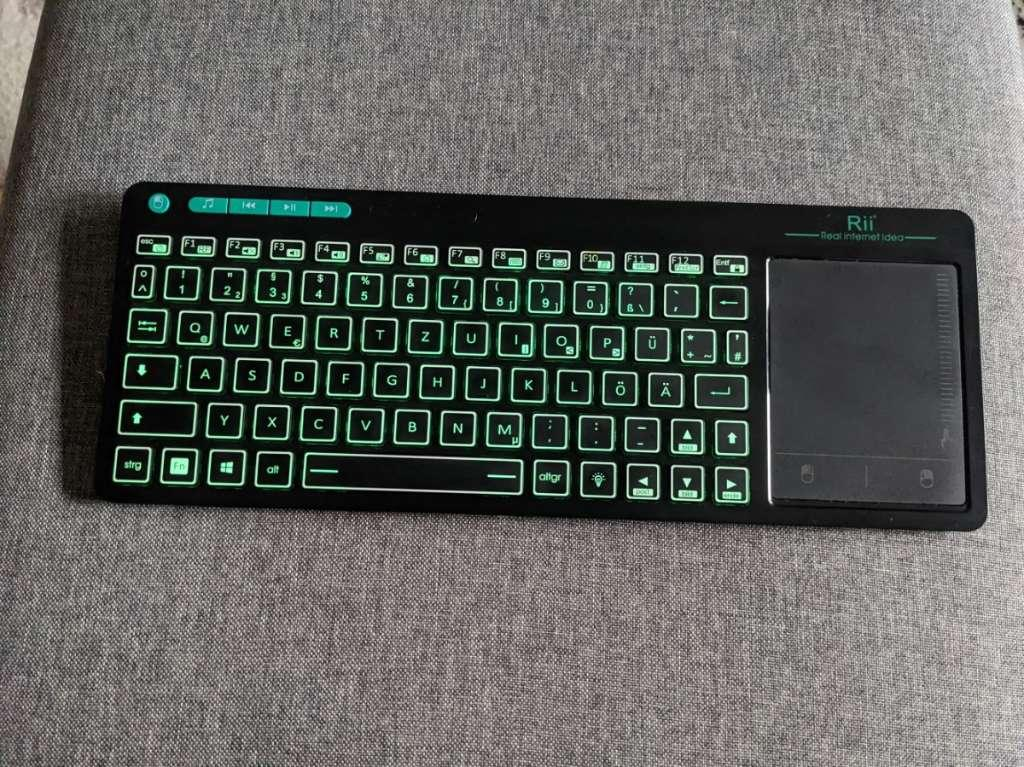0: (570, 278, 607, 314)
1: (162, 263, 199, 298)
2: (207, 264, 245, 300)
3: (252, 266, 290, 302)
4: (299, 267, 336, 302)
5: (345, 270, 382, 305)
6: (390, 272, 428, 307)
7: (435, 274, 472, 309)
8: (480, 275, 516, 311)
9: (524, 277, 562, 312)
a: (185, 352, 222, 389)
accent: (660, 280, 696, 314)
ae: (645, 369, 682, 404)
alt-left: (251, 448, 291, 486)
altgr-right: (529, 456, 570, 496)
b: (391, 406, 429, 442)
c: (297, 403, 336, 439)
caret: (130, 262, 154, 297)
comma: (529, 410, 565, 445)
d: (278, 356, 316, 392)
del: (706, 282, 746, 317)
e: (266, 311, 304, 347)
enter: (691, 370, 747, 406)
f: (325, 358, 362, 393)
g: (371, 359, 408, 395)
h: (417, 361, 453, 397)
hash: (723, 326, 749, 363)
i: (496, 319, 532, 354)
j: (463, 363, 499, 398)
k: (508, 364, 545, 400)
keyboard: (80, 176, 1001, 543)
l: (554, 366, 589, 401)
m: (482, 409, 521, 446)
minus: (622, 413, 659, 449)
n: (437, 407, 475, 443)
o: (540, 321, 577, 356)
oe: (600, 368, 636, 403)
p: (586, 323, 623, 358)
plus: (677, 325, 713, 361)
point: (576, 412, 612, 447)
q: (174, 307, 212, 343)
r: (312, 312, 350, 348)
s: (231, 355, 269, 391)
shift-left: (115, 397, 195, 433)
shift-lock: (119, 351, 175, 387)
shift-right: (713, 419, 750, 455)
space: (299, 450, 524, 498)
ss: (615, 279, 651, 315)
strg-left: (110, 443, 152, 481)
t: (359, 314, 396, 349)
tab: (124, 305, 165, 342)
u: (450, 318, 487, 354)
ue: (631, 323, 668, 359)
v: (345, 404, 383, 440)
w: (220, 308, 258, 344)
x: (251, 401, 289, 437)
y: (204, 400, 242, 436)
z: (405, 316, 441, 351)
